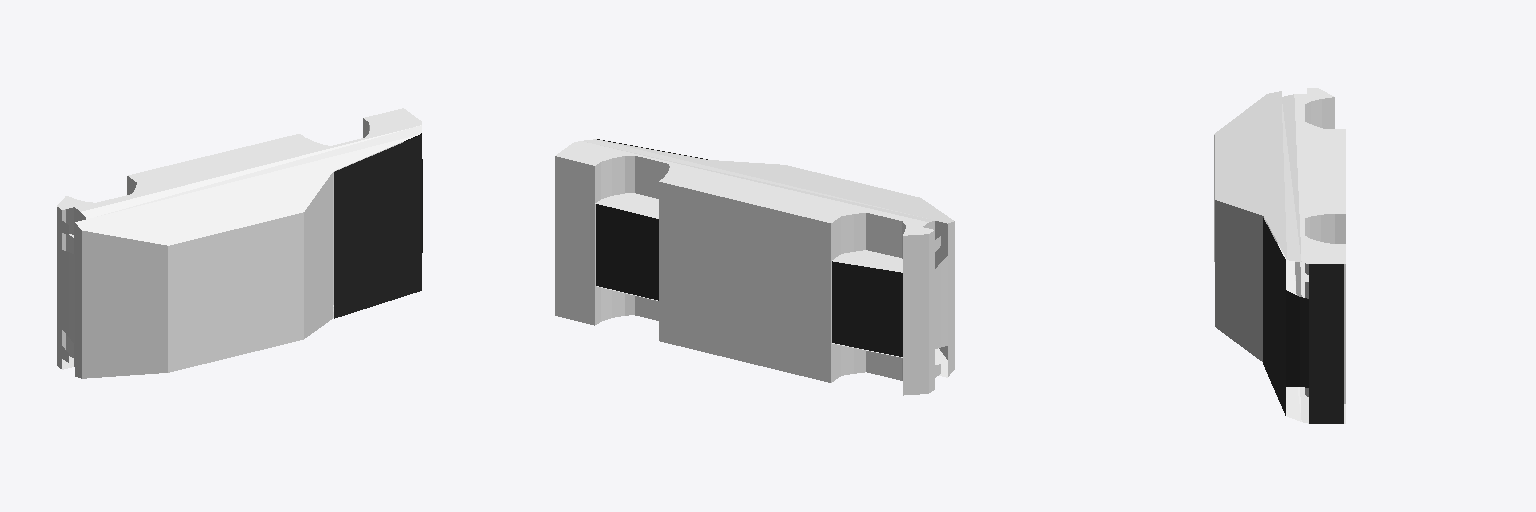
File: karoserie.obj
The picture shows the model from 3 angles: view 1: azimuth 30°, elevation 25°; view 2: azimuth 150°, elevation 25°; view 3: azimuth 270°, elevation 25°; orthographic projection.
Parts seen in each view (by area): view 1: Plane_1_Plane.017, Plane_0_Plane.016; view 2: Plane_1_Plane.017, Plane_0_Plane.016; view 3: Plane_1_Plane.017, Plane_0_Plane.016.
Part boxes in pixels (x1,y1,x2,y2): Plane_1_Plane.017: (57,108,421,378); Plane_0_Plane.016: (334,133,422,318); Plane_1_Plane.017: (555,139,954,395); Plane_0_Plane.016: (596,139,902,356); Plane_1_Plane.017: (1214,88,1345,423); Plane_0_Plane.016: (1263,218,1343,423).
Size of the model in its own units: 3.78 by 1.6 by 1.19.